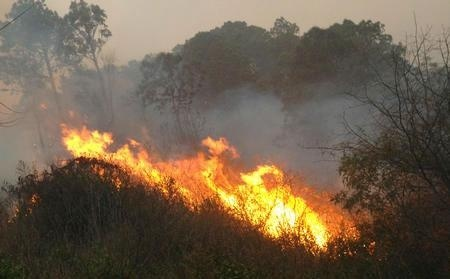fire: (45, 116, 361, 264)
